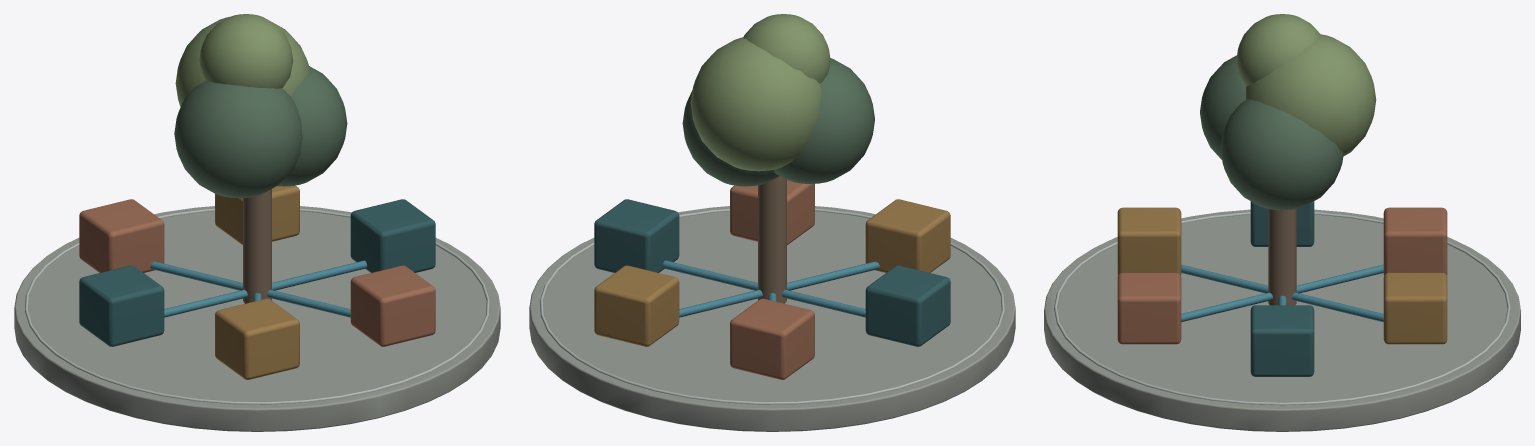
File: idea-a46c4a35.glb
3 views of the same model, side by side, from view 1: azimuth 30°, elevation 25°; view 2: azimuth 150°, elevation 25°; view 3: azimuth 270°, elevation 25° (orthographic).
Visible parts, largest first — view 1: AIC Living Startup Ecosystem; view 2: AIC Living Startup Ecosystem; view 3: AIC Living Startup Ecosystem.
Part boxes in pixels (<box>): AIC Living Startup Ecosystem: <box>14,14,500,431</box>; AIC Living Startup Ecosystem: <box>529,14,1015,431</box>; AIC Living Startup Ecosystem: <box>1044,14,1520,431</box>.
Size of the model in its own units: 4.5 by 3.21 by 4.5.
